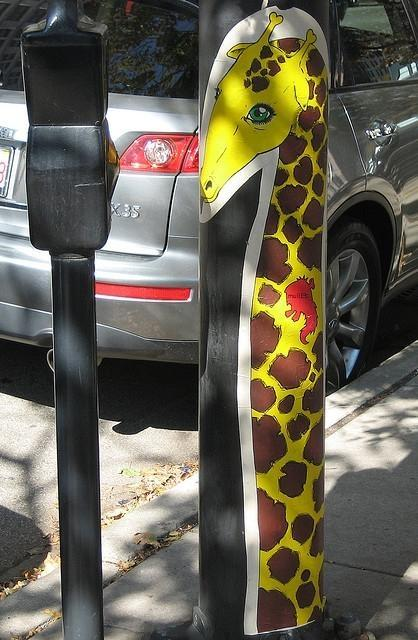car: (1, 0, 418, 396)
